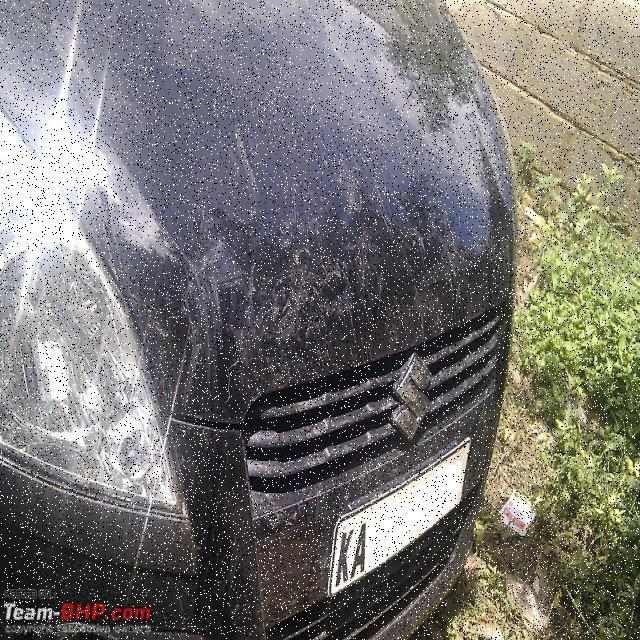headlight: (0, 0, 514, 479)
